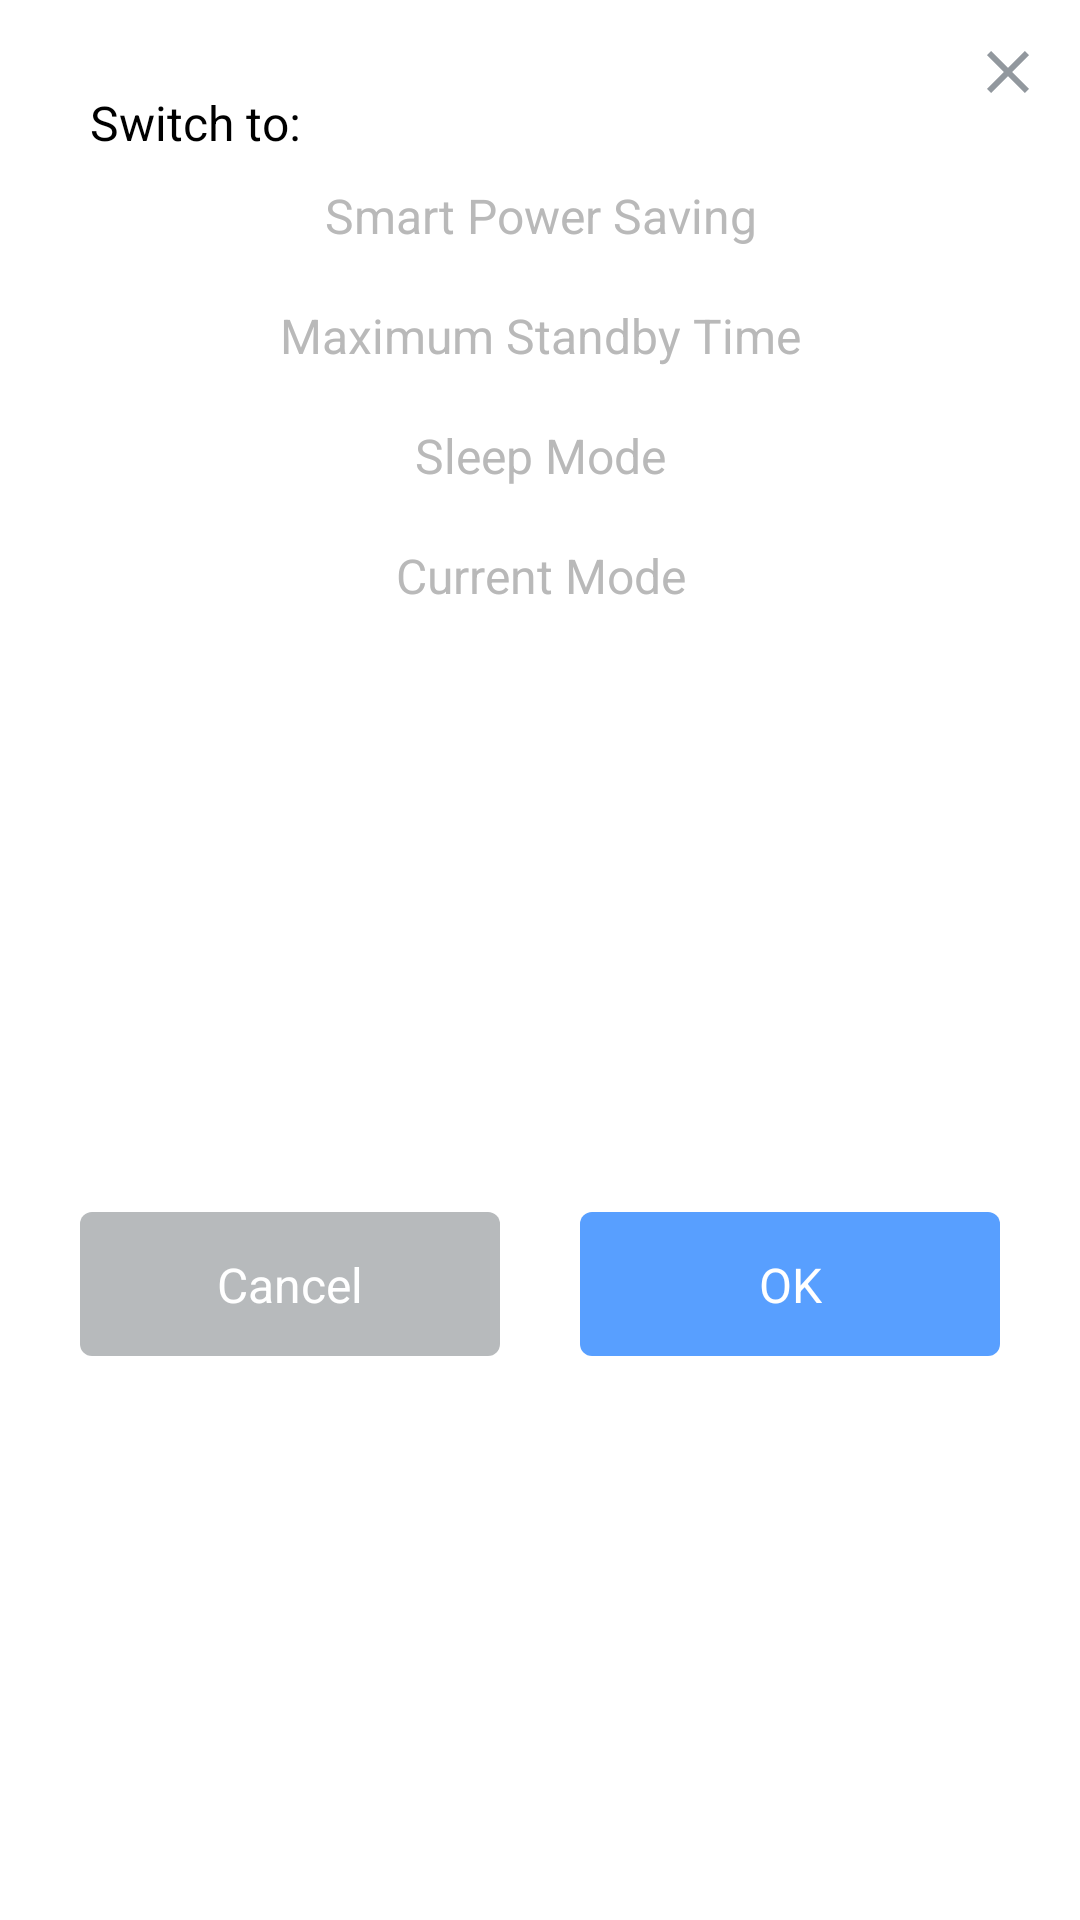

Screen size 1080x1920. Icon name, then its box in pixels as (x1, y1, x2, y2):
close: (987, 51, 1029, 93)
